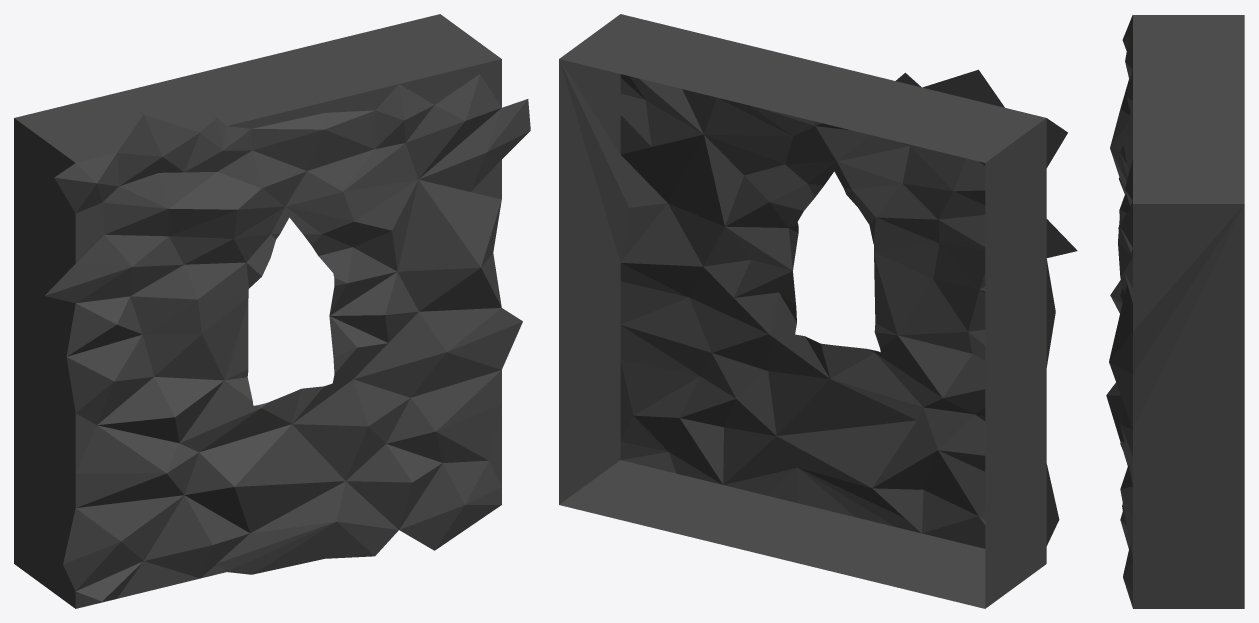
The model's file is Wall_Stone_Opening_Small.fbx.
3 renders of one model, left to right at view 1: azimuth 30°, elevation 25°; view 2: azimuth 150°, elevation 25°; view 3: azimuth 270°, elevation 25°, orthographic. The views are drawn at different scales.
Parts seen in each view (by area): view 1: Wall_Stone_Opening_Small; view 2: Wall_Stone_Opening_Small; view 3: Wall_Stone_Opening_Small.
Boxes of the visible parts, x1=… form: Wall_Stone_Opening_Small: x1=14, y1=14, x2=530, y2=608; Wall_Stone_Opening_Small: x1=559, y1=14, x2=1077, y2=608; Wall_Stone_Opening_Small: x1=1106, y1=15, x2=1244, y2=608.
Bounding box in the file's own units: 913 × 910 × 248.
